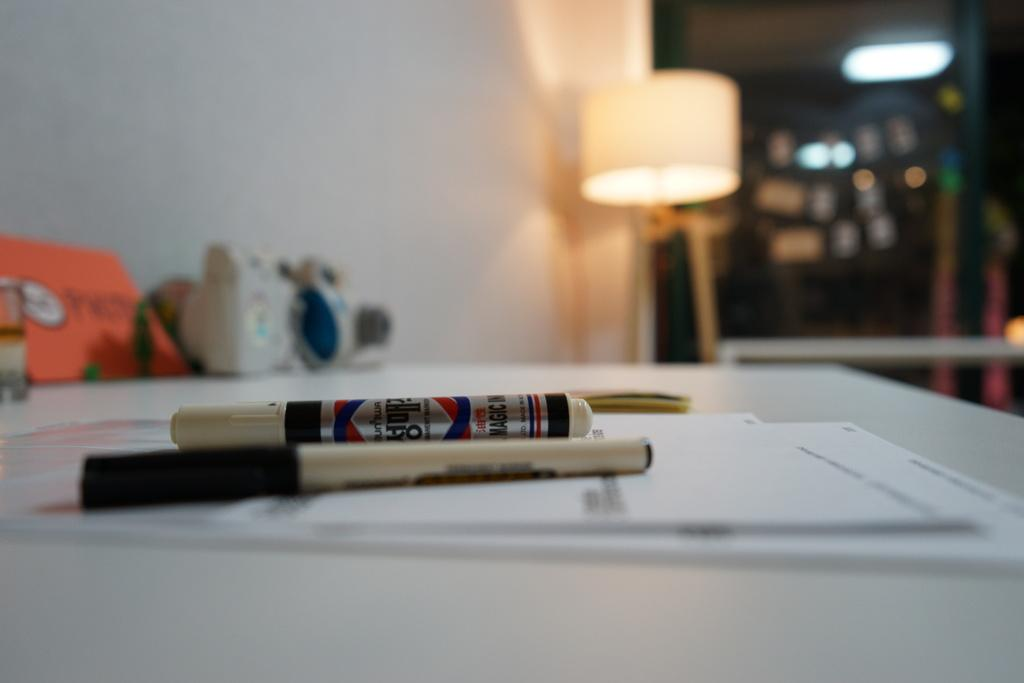pen: (73, 437, 656, 509), (173, 387, 604, 446)
